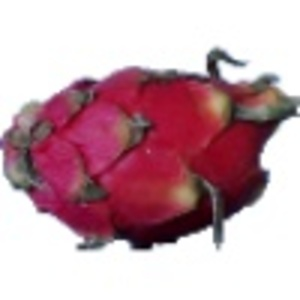pitaia: (1, 48, 300, 253)
